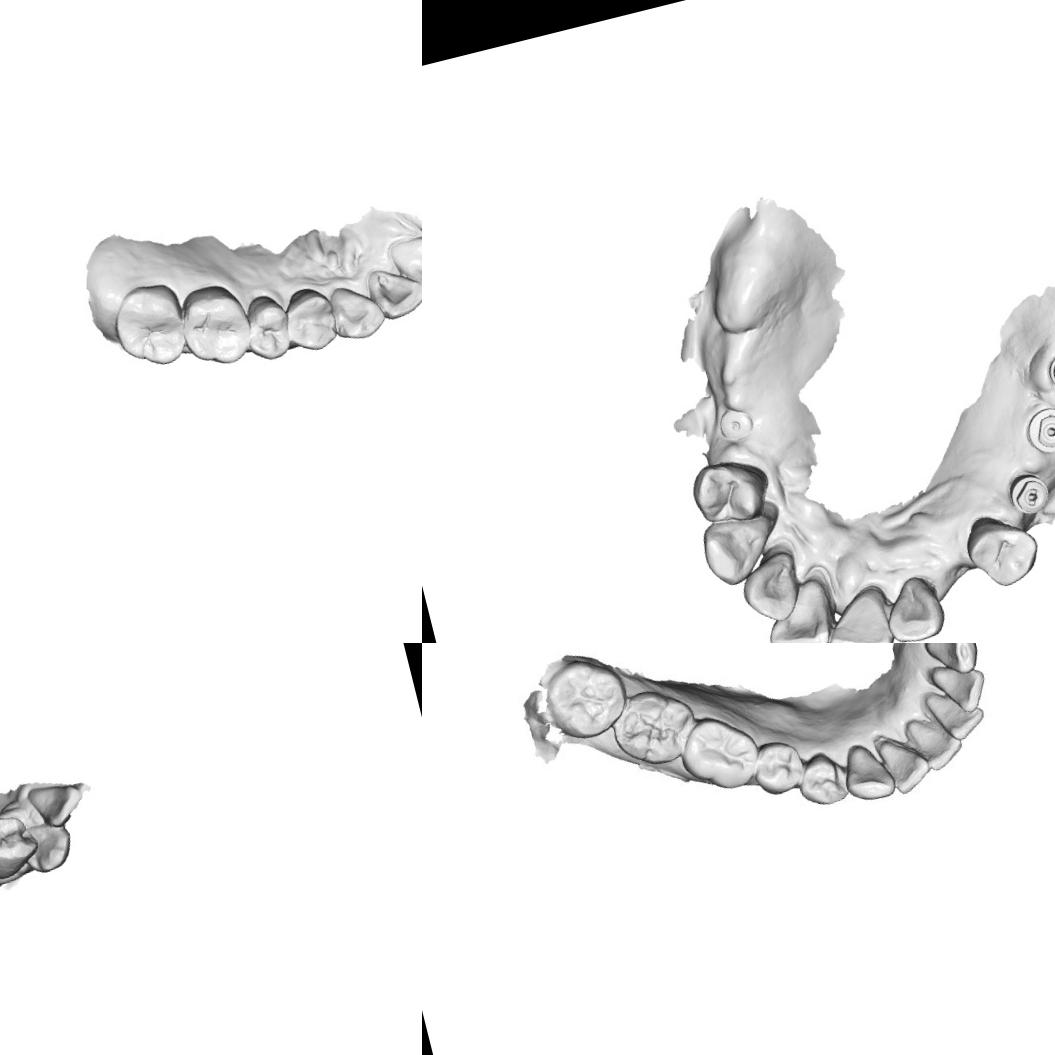canine: (694, 508, 785, 593), (324, 276, 390, 346), (839, 736, 900, 804), (18, 814, 80, 877), (921, 643, 976, 680)
implant: (712, 400, 760, 448), (1020, 401, 1055, 459)
implant_minus: (1006, 470, 1052, 518), (1045, 344, 1055, 397)
incisor: (733, 546, 811, 630), (754, 572, 843, 643), (876, 571, 950, 643), (817, 590, 898, 643), (873, 728, 931, 798), (22, 774, 94, 830), (922, 681, 986, 744), (363, 257, 422, 324), (903, 711, 964, 773), (929, 656, 992, 713), (383, 223, 422, 301)
molar: (103, 275, 194, 376), (607, 681, 701, 775), (171, 278, 258, 375), (674, 717, 761, 802), (541, 659, 629, 740)
premolar: (957, 505, 1048, 596), (684, 448, 775, 534), (277, 282, 342, 356), (236, 288, 298, 364), (747, 738, 808, 798), (793, 750, 850, 812), (0, 804, 43, 884)
